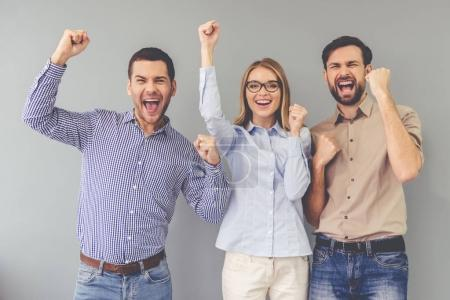handsup: (19, 19, 229, 296), (199, 12, 320, 297), (308, 32, 429, 297)
